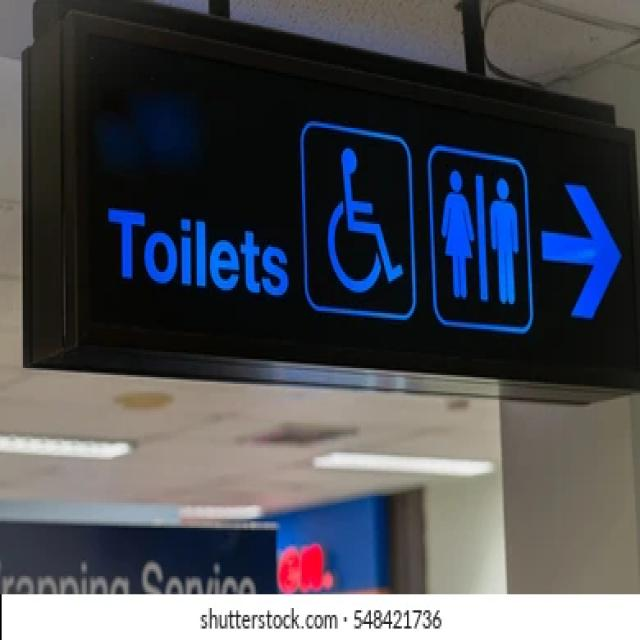toilet_icon: (308, 124, 528, 333)
